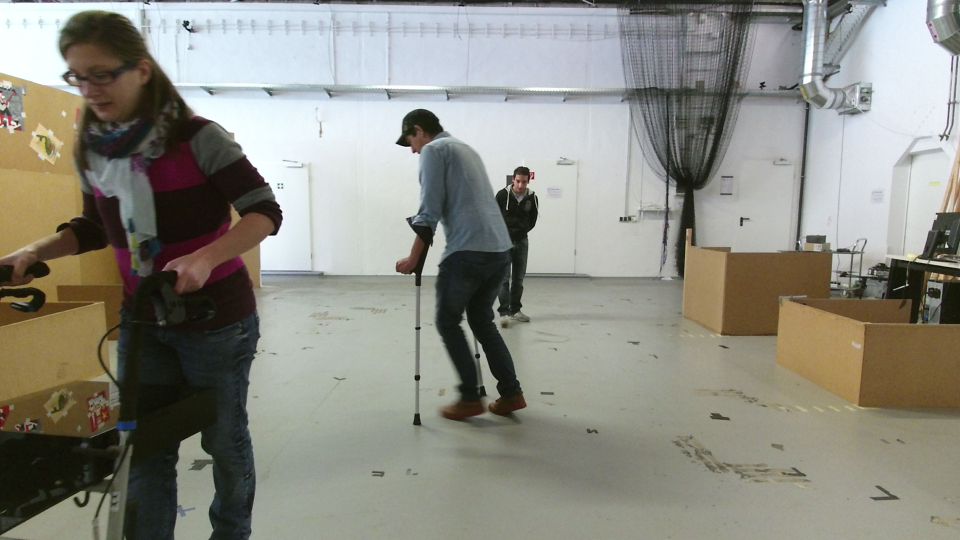crutches: (389, 102, 543, 436)
